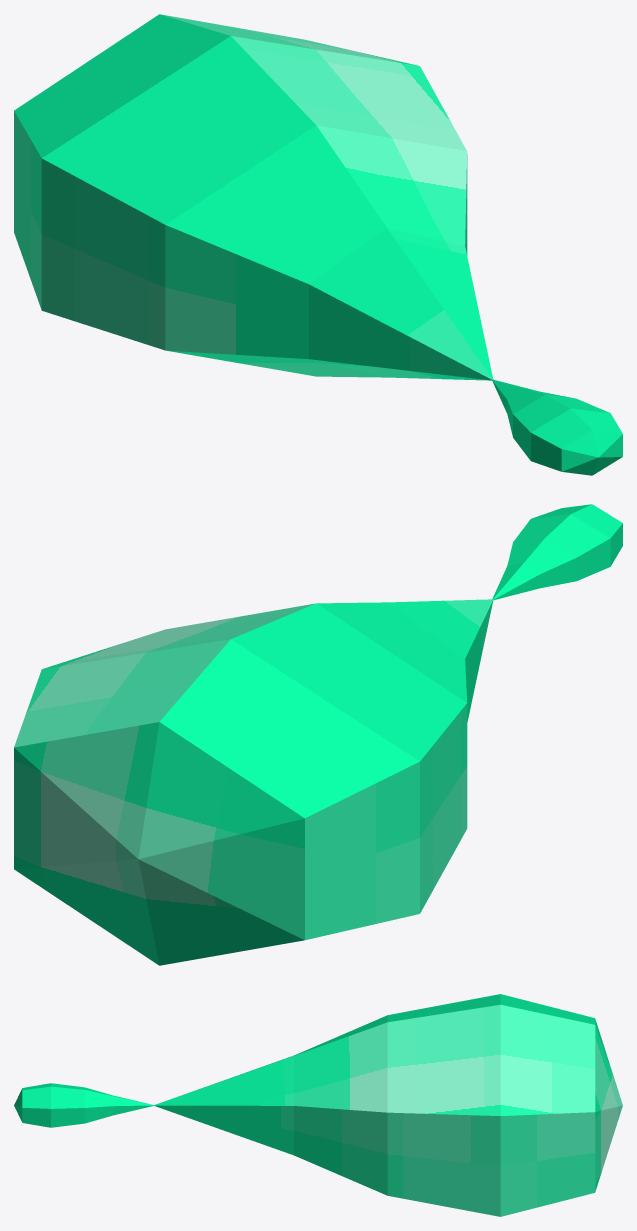
The model's file is goop.gltf.
The picture shows the model from 3 angles, top to bottom: view 1: azimuth 30°, elevation 25°; view 2: azimuth 150°, elevation 25°; view 3: azimuth 270°, elevation 25°; orthographic projection. The views are drawn at different scales.
Parts seen in each view (by area): view 1: goop; view 2: goop; view 3: goop.
Part boxes in pixels (bbox=[...]): goop: bbox=[14, 14, 622, 475]; goop: bbox=[14, 504, 622, 965]; goop: bbox=[14, 994, 622, 1216].
Bounding box in the file's own units: 0.065 × 0.05 × 0.1369.
Materials: 1 (1 with a texture image).
